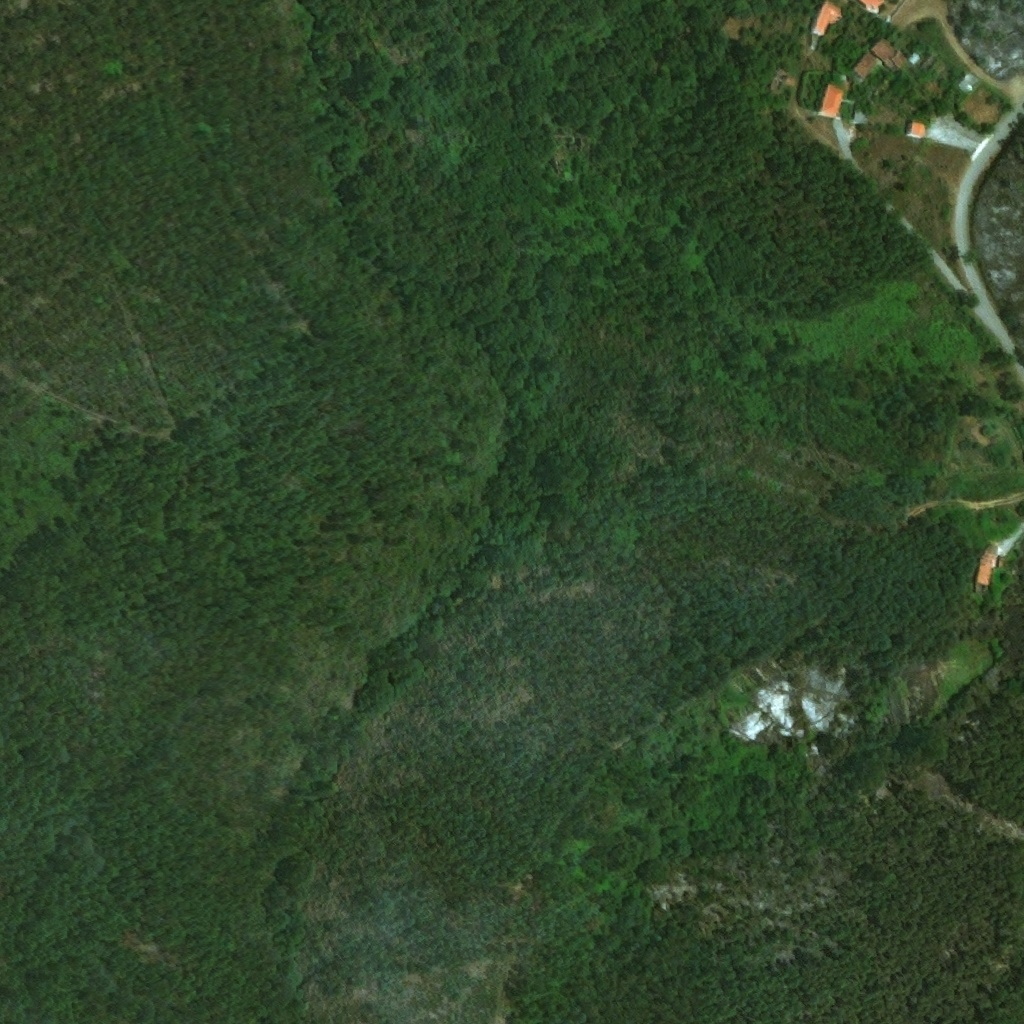0 no-damage: (810, 1, 844, 47), (870, 37, 906, 70), (818, 82, 846, 120), (974, 544, 998, 586), (850, 53, 876, 80), (957, 72, 979, 95), (853, 100, 871, 127), (768, 68, 787, 92), (907, 120, 930, 139), (907, 52, 920, 65)
4 un-classified: (859, 0, 886, 17)
